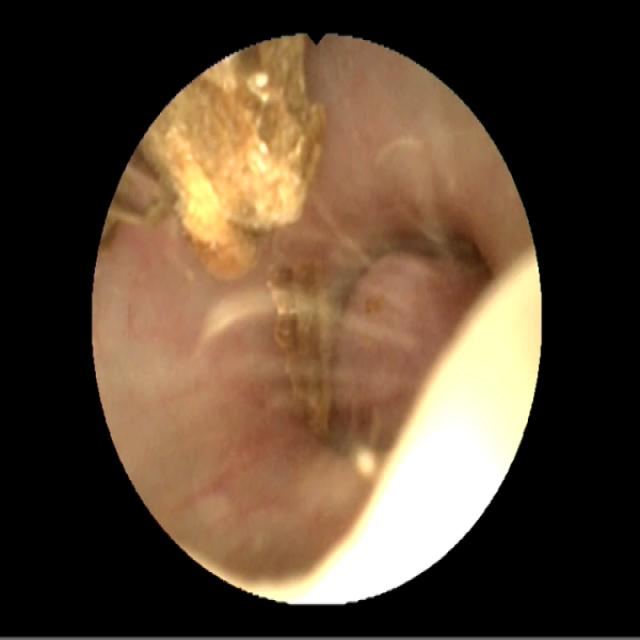stone: (141, 38, 329, 279), (268, 261, 332, 437), (104, 179, 168, 251)
